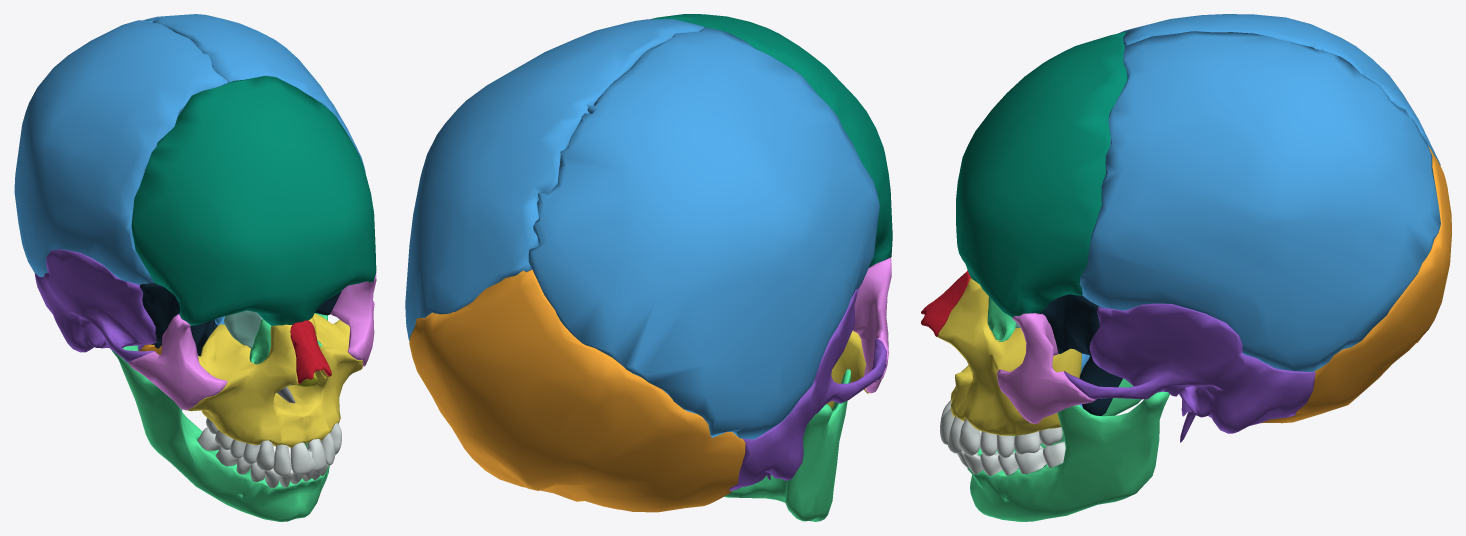
Rendered from skull_opt1.fbx.
The picture shows the model from 3 angles, left to right: view 1: azimuth 30°, elevation 25°; view 2: azimuth 150°, elevation 25°; view 3: azimuth 270°, elevation 25°; orthographic projection. The views are drawn at different scales.
Visible parts, largest first — view 1: Frontal bone.005, Parietal bone.r.005, Maxilla bone.r.005, Mandible bone.005, Temporal bone.r.003, Zygomatic bone.r.003, Parietal bone.l.005, Sphenoid bone.005, Nasal bone.r.003, Upper medial incisor.r.003, Ethmoid Bone.005, Upper lateral incisor.r.003 (+2 smaller); view 2: Parietal bone.r.005, Occipital bone.005, Parietal bone.l.005, Frontal bone.005, Temporal bone.r.003, Mandible bone.005, Zygomatic bone.r.003, Maxilla bone.r.005; view 3: Parietal bone.l.005, Frontal bone.005, Temporal bone.r.003, Mandible bone.005, Occipital bone.005, Maxilla bone.r.005, Parietal bone.r.005, Zygomatic bone.r.003, Sphenoid bone.005, Nasal bone.r.003, Lacrimal bone.r.003.
Part boxes in pixels (bbox=[...]): Frontal bone.005: bbox=[131, 76, 376, 325]; Parietal bone.r.005: bbox=[14, 20, 228, 284]; Maxilla bone.r.005: bbox=[186, 313, 363, 447]; Mandible bone.005: bbox=[111, 313, 329, 521]; Temporal bone.r.003: bbox=[34, 249, 156, 362]; Zygomatic bone.r.003: bbox=[128, 273, 376, 410]; Parietal bone.l.005: bbox=[144, 14, 365, 172]; Sphenoid bone.005: bbox=[140, 282, 341, 356]; Nasal bone.r.003: bbox=[290, 320, 331, 383]; Upper medial incisor.r.003: bbox=[290, 439, 326, 474]; Ethmoid Bone.005: bbox=[223, 310, 271, 348]; Upper lateral incisor.r.003: bbox=[273, 433, 335, 476]; Parietal bone.r.005: bbox=[528, 27, 879, 439]; Occipital bone.005: bbox=[409, 269, 745, 512]; Parietal bone.l.005: bbox=[405, 19, 704, 341]; Frontal bone.005: bbox=[650, 14, 892, 267]; Temporal bone.r.003: bbox=[531, 269, 886, 491]; Mandible bone.005: bbox=[724, 369, 850, 521]; Zygomatic bone.r.003: bbox=[852, 257, 891, 393]; Maxilla bone.r.005: bbox=[827, 331, 869, 409]; Parietal bone.l.005: bbox=[1079, 31, 1440, 371]; Frontal bone.005: bbox=[956, 31, 1127, 317]; Temporal bone.r.003: bbox=[1064, 303, 1315, 442]; Mandible bone.005: bbox=[967, 378, 1169, 521]; Occipital bone.005: bbox=[1260, 145, 1451, 423]; Maxilla bone.r.005: bbox=[937, 278, 1081, 435]; Parietal bone.r.005: bbox=[1119, 14, 1440, 165]; Zygomatic bone.r.003: bbox=[997, 313, 1096, 423]; Sphenoid bone.005: bbox=[1040, 294, 1122, 415]; Nasal bone.r.003: bbox=[921, 270, 970, 336]; Lacrimal bone.r.003: bbox=[987, 296, 1015, 341].
Bounding box in the file's own units: 14.83 × 20.15 × 20.38.
